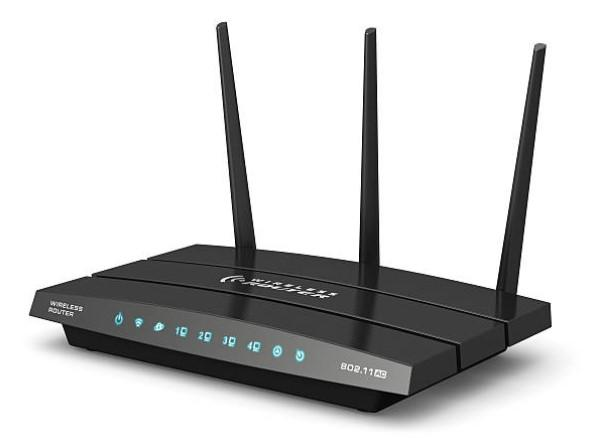Router: (29, 22, 552, 412)
